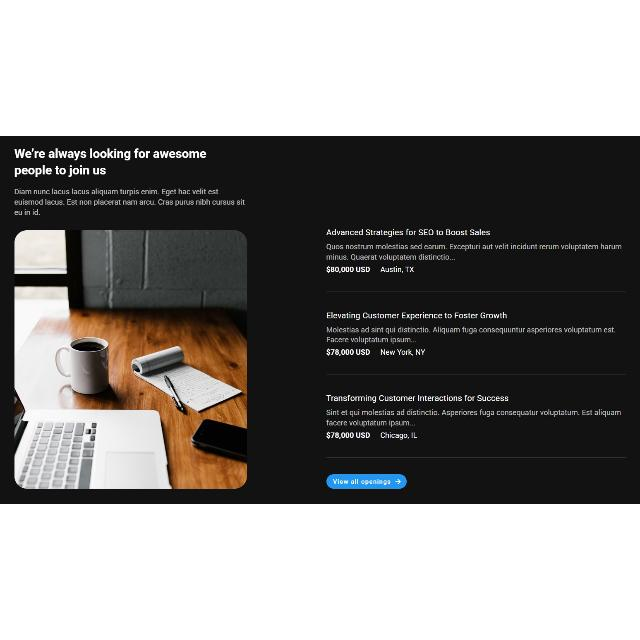QLabel: (13, 188, 246, 218), (326, 407, 626, 427), (13, 148, 208, 178), (325, 326, 617, 344), (326, 243, 624, 260), (324, 312, 506, 321), (322, 394, 508, 402), (325, 229, 491, 237), (333, 478, 391, 486), (324, 348, 372, 356), (379, 348, 427, 356), (326, 265, 370, 273), (380, 432, 418, 440), (324, 432, 372, 438), (379, 266, 415, 272)
VBtn: (327, 474, 408, 490)
VDivider: (319, 373, 633, 377), (324, 290, 628, 294), (322, 456, 626, 459)
VIcon: (395, 478, 401, 484)
VImg: (13, 230, 249, 490)
